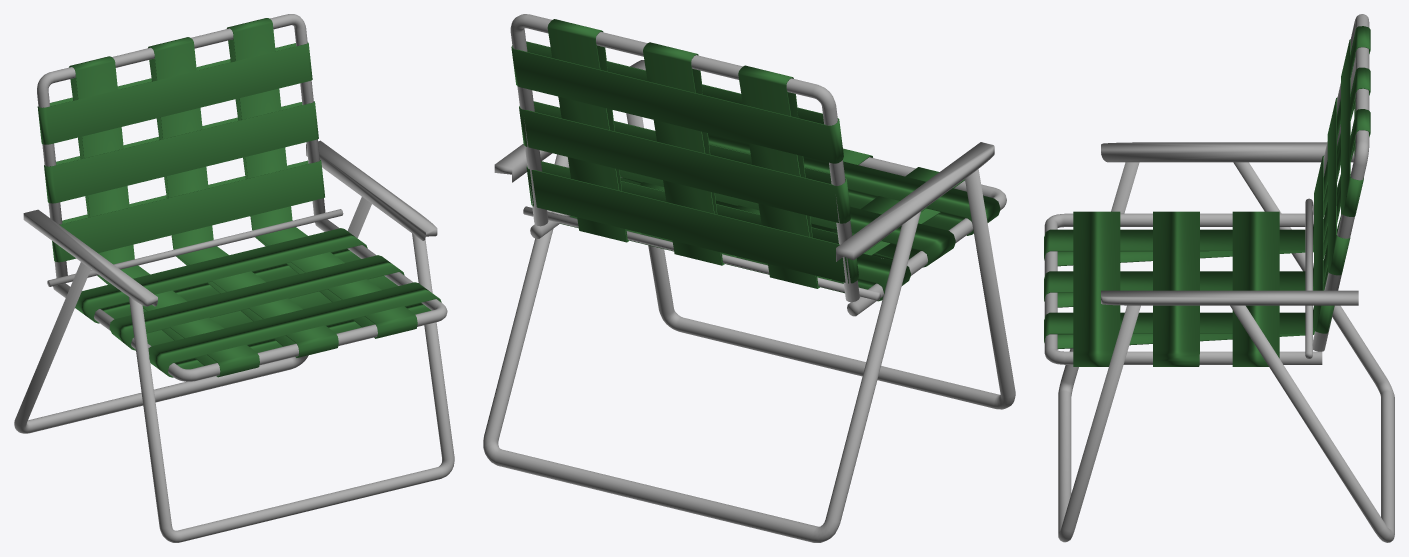
File: low-poly_lawn_chair.glb
3 renders of one model, left to right at view 1: azimuth 30°, elevation 25°; view 2: azimuth 150°, elevation 25°; view 3: azimuth 270°, elevation 25°, orthographic. The views are drawn at different scales.
Visible parts, largest first — view 1: Plane.002_1, Cylinder.001_0; view 2: Plane.002_1, Cylinder.001_0; view 3: Plane.002_1, Cylinder.001_0.
Boxes of the visible parts, <box> form: Plane.002_1: <box>37,18,441,377</box>; Cylinder.001_0: <box>14,14,454,542</box>; Plane.002_1: <box>511,19,1000,301</box>; Cylinder.001_0: <box>483,14,1015,542</box>; Plane.002_1: <box>1044,26,1370,366</box>; Cylinder.001_0: <box>1044,14,1394,542</box>.
Size of the model in its own units: 1.8 by 2.13 by 1.71.
